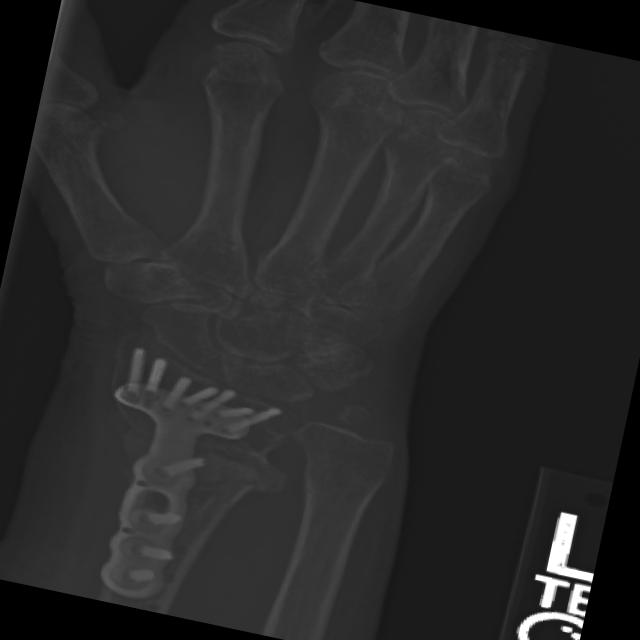fingers positive: (85, 372, 346, 549)
